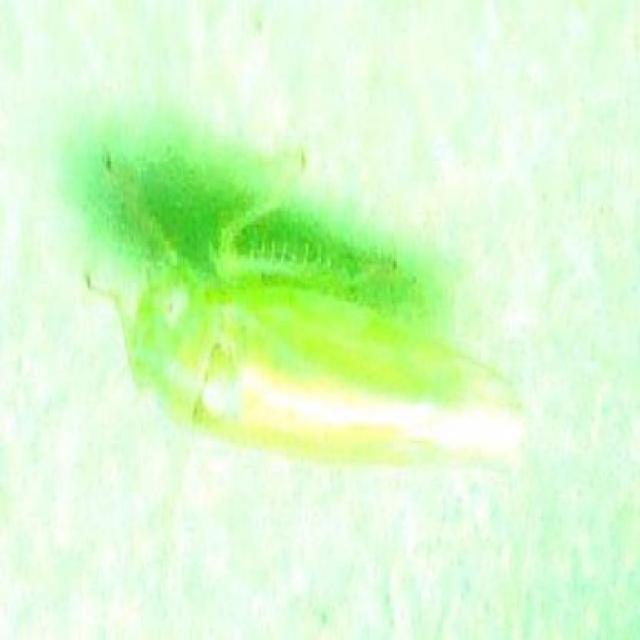green-leafhopper: (121, 217, 530, 483)
